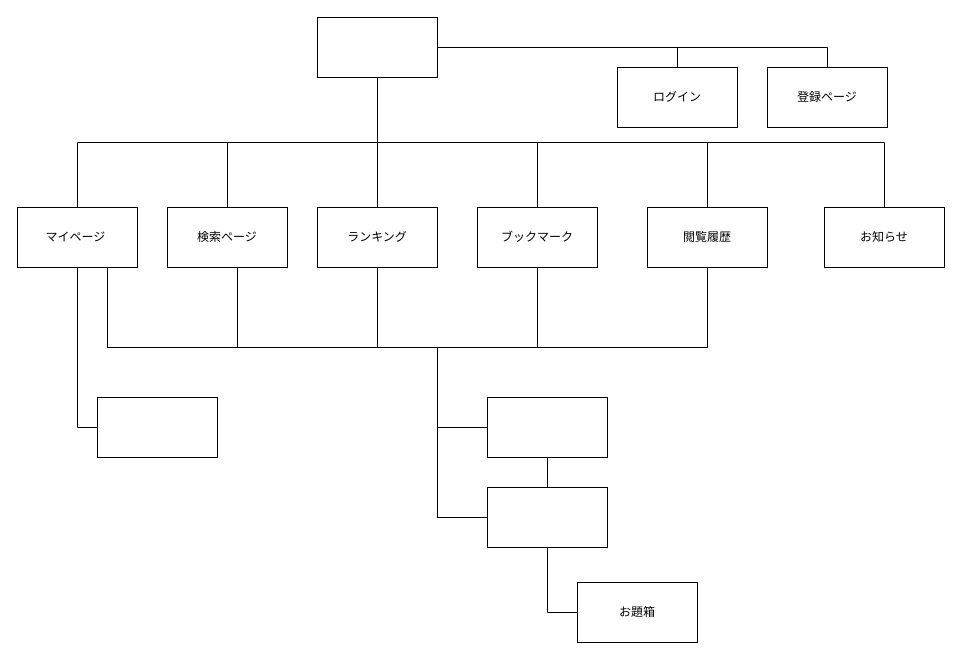
This 962x660 diagram has some shape labels left out. The shapes that lost their labels are listed below. From the top down, each one's box as (x1, y1, x2, y2) in pixels, then its label:
(316, 16, 438, 78): トップページ
(96, 396, 218, 458): 執筆ページ
(486, 396, 608, 458): 小説
(486, 486, 608, 548): 作家情報
